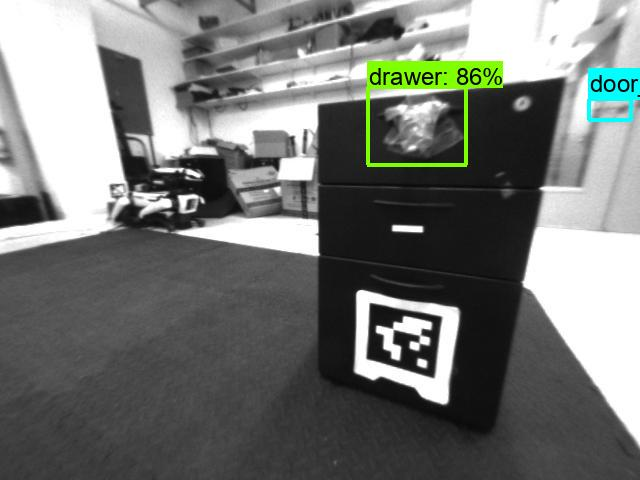door_handle: (589, 99, 630, 119)
drawer: (372, 92, 464, 162)
